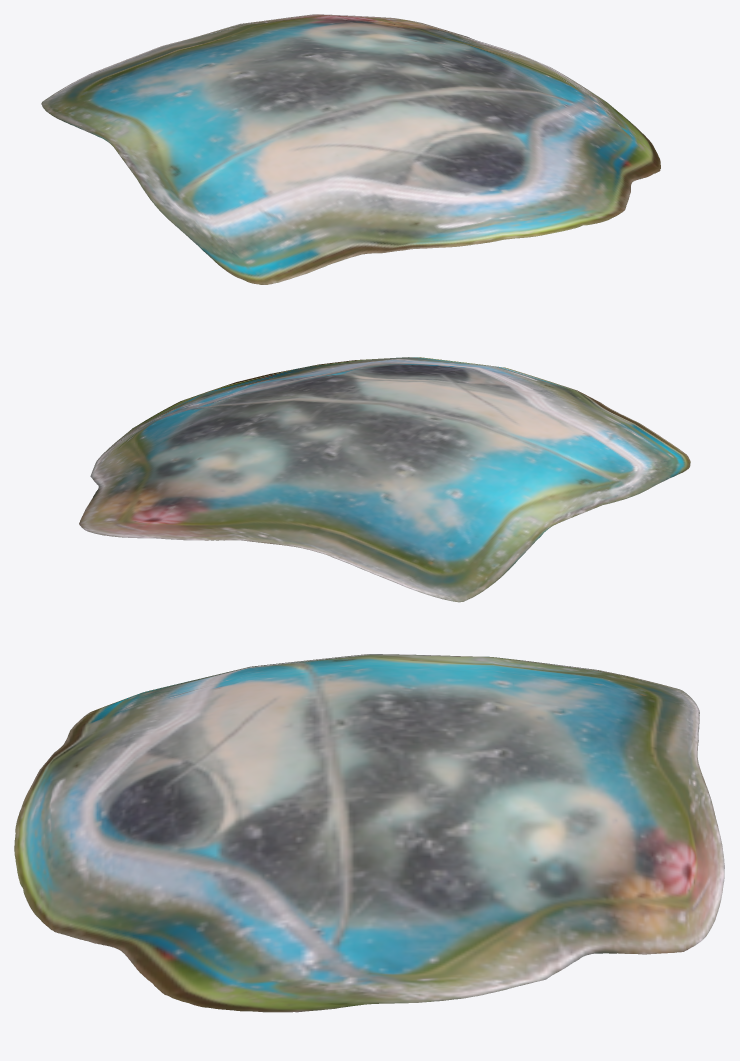
File: Mandy-Barker---p9378_CE__jrm.dae
3 renders of one model, top to bottom at view 1: azimuth 30°, elevation 25°; view 2: azimuth 150°, elevation 25°; view 3: azimuth 270°, elevation 25°, orthographic. The views are drawn at different scales.
Parts seen in each view (by area): view 1: Mandy-Barker---p9378_CE__jrm; view 2: Mandy-Barker---p9378_CE__jrm; view 3: Mandy-Barker---p9378_CE__jrm.
Boxes of the visible parts, x1,y1,x2,y2 form: Mandy-Barker---p9378_CE__jrm: (41,14,660,284); Mandy-Barker---p9378_CE__jrm: (79,357,690,602); Mandy-Barker---p9378_CE__jrm: (14,654,724,1012).
Size of the model in its own units: 8 by 7.84 by 1.77.
1 material, 1 textured.
